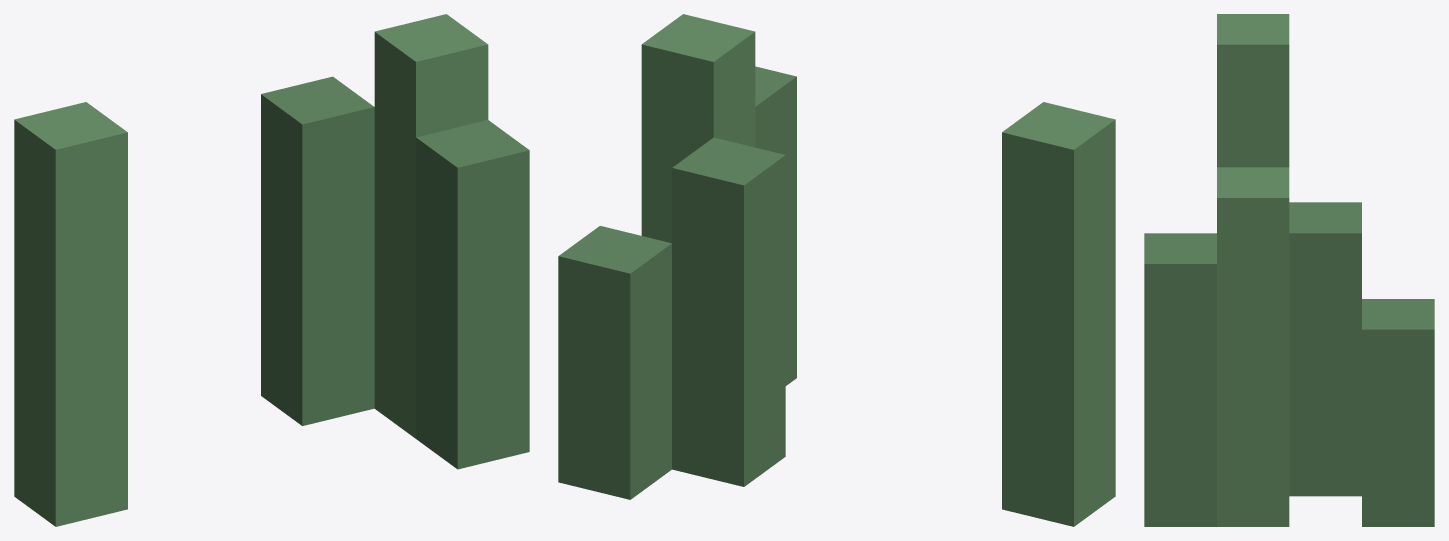
File: enredadera_01.glb
3 renders of one model, left to right at view 1: azimuth 30°, elevation 25°; view 2: azimuth 150°, elevation 25°; view 3: azimuth 270°, elevation 25°, orthographic. The views are drawn at different scales.
Visible parts, largest first — view 1: enredadera_01; view 2: enredadera_01; view 3: enredadera_01.
Boxes of the visible parts, x1,y1,x2,y2 form: enredadera_01: (14, 14, 529, 526); enredadera_01: (558, 14, 1115, 526); enredadera_01: (1144, 14, 1434, 526).
Size of the model in its own units: 0.6 by 0.5 by 0.4.
